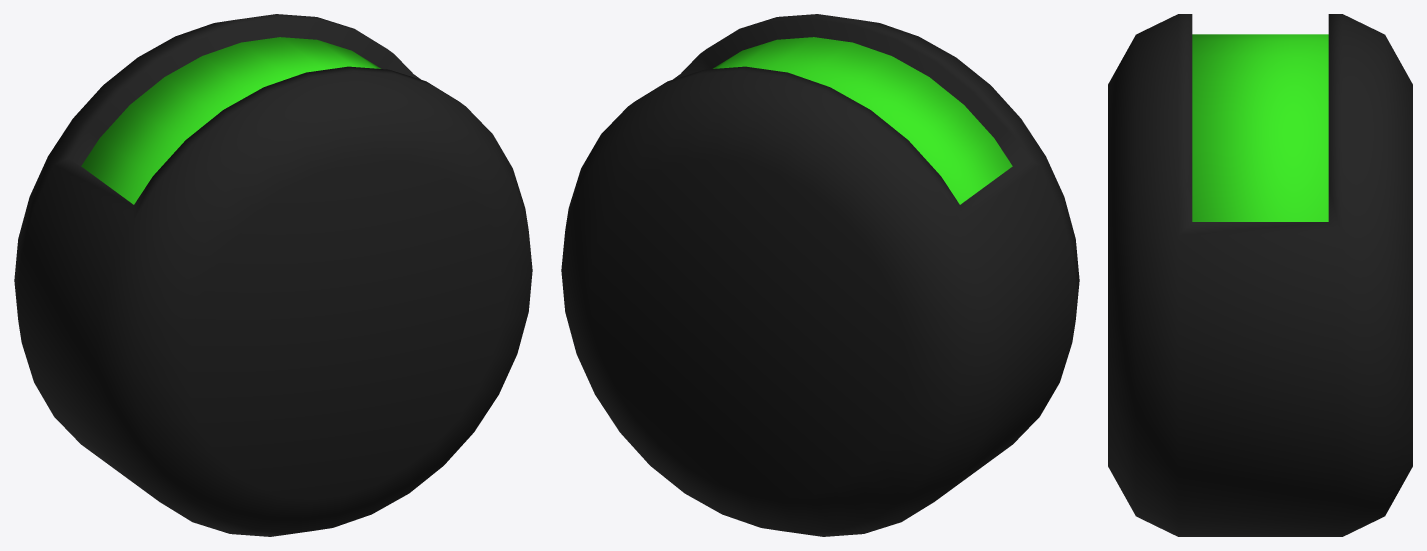
The model's file is healthBand.fbx.
3 views of the same model, side by side, from view 1: azimuth 30°, elevation 25°; view 2: azimuth 150°, elevation 25°; view 3: azimuth 270°, elevation 25° (orthographic). The views are drawn at different scales.
Visible parts, largest first — view 1: Shell, HealthCylinder; view 2: Shell, HealthCylinder; view 3: Shell, HealthCylinder.
Boxes of the visible parts, <box> form: Shell: <box>14,14,532,536</box>; HealthCylinder: <box>81,37,380,204</box>; Shell: <box>561,14,1079,536</box>; HealthCylinder: <box>713,37,1012,204</box>; Shell: <box>1108,14,1412,536</box>; HealthCylinder: <box>1192,34,1328,221</box>.
Bounding box in the file's own units: 200 × 116 × 200.
